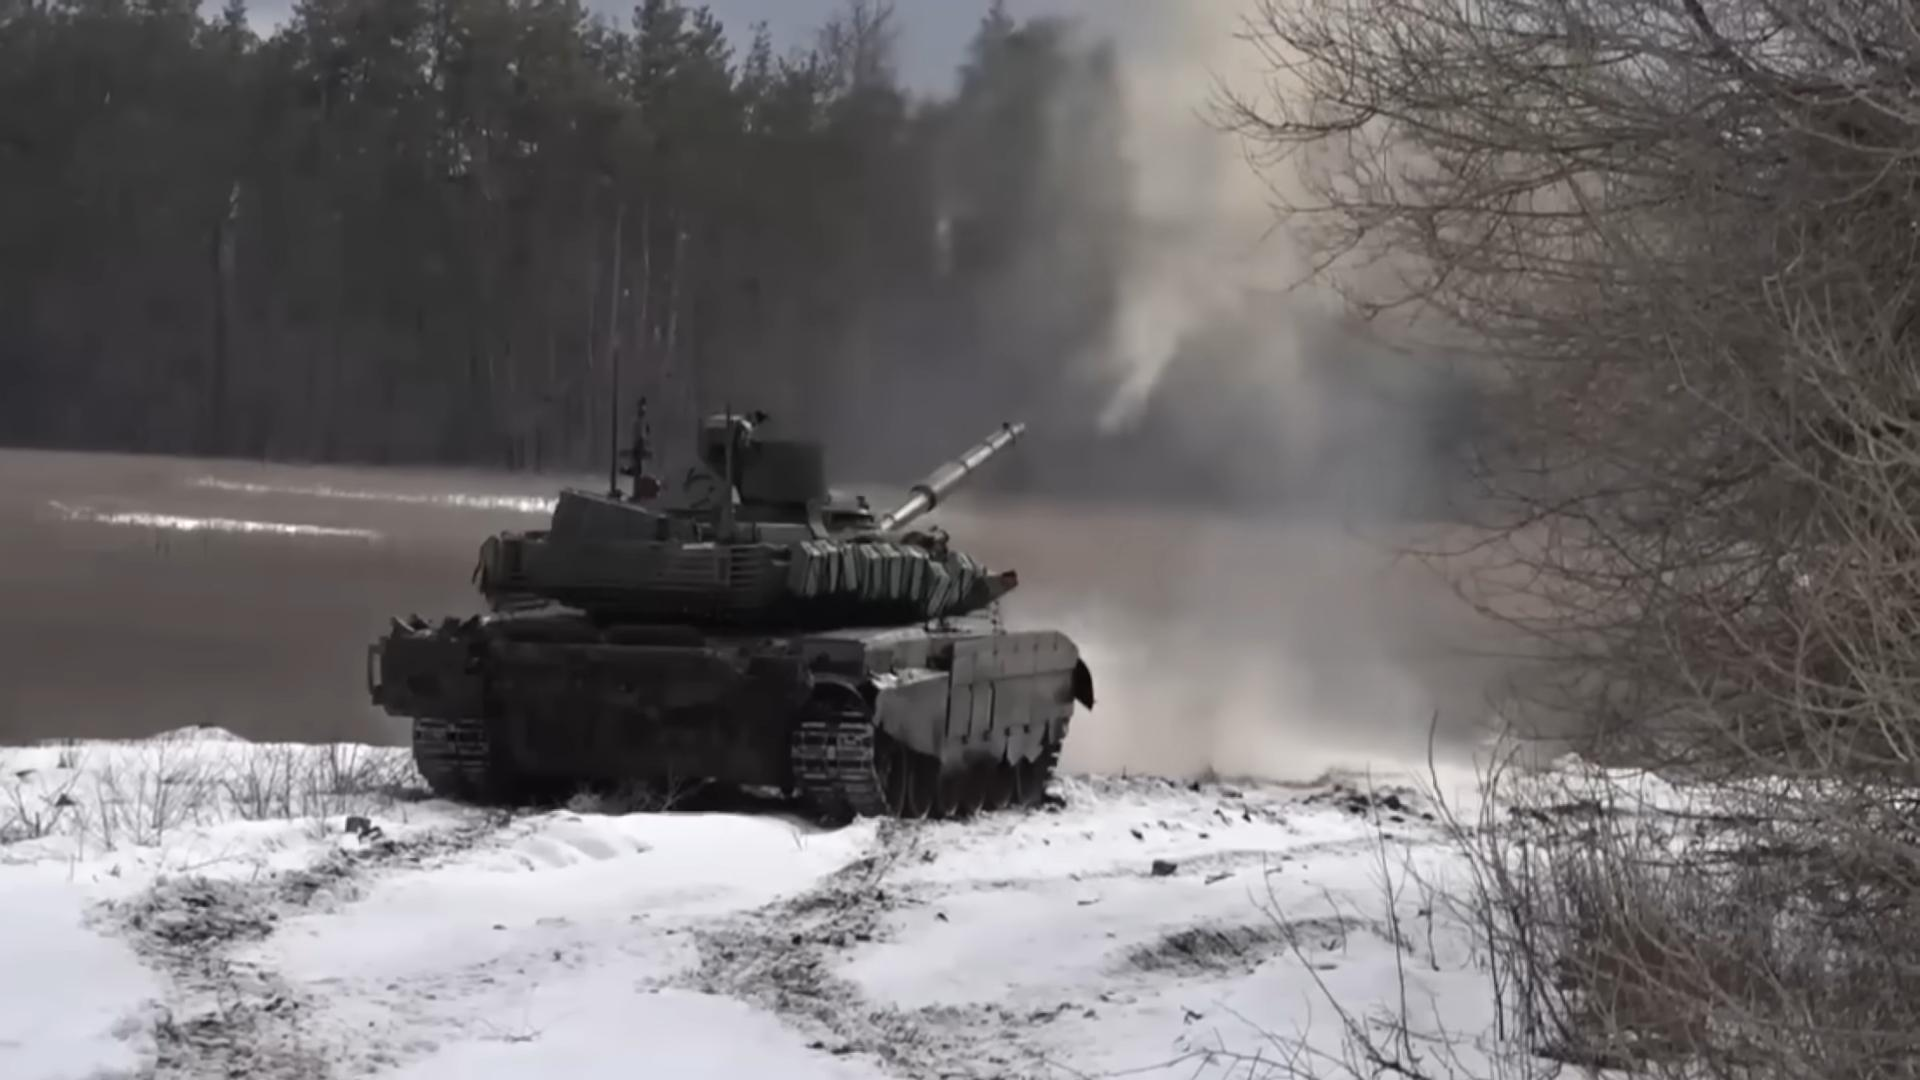tank: (368, 345, 1096, 822)
